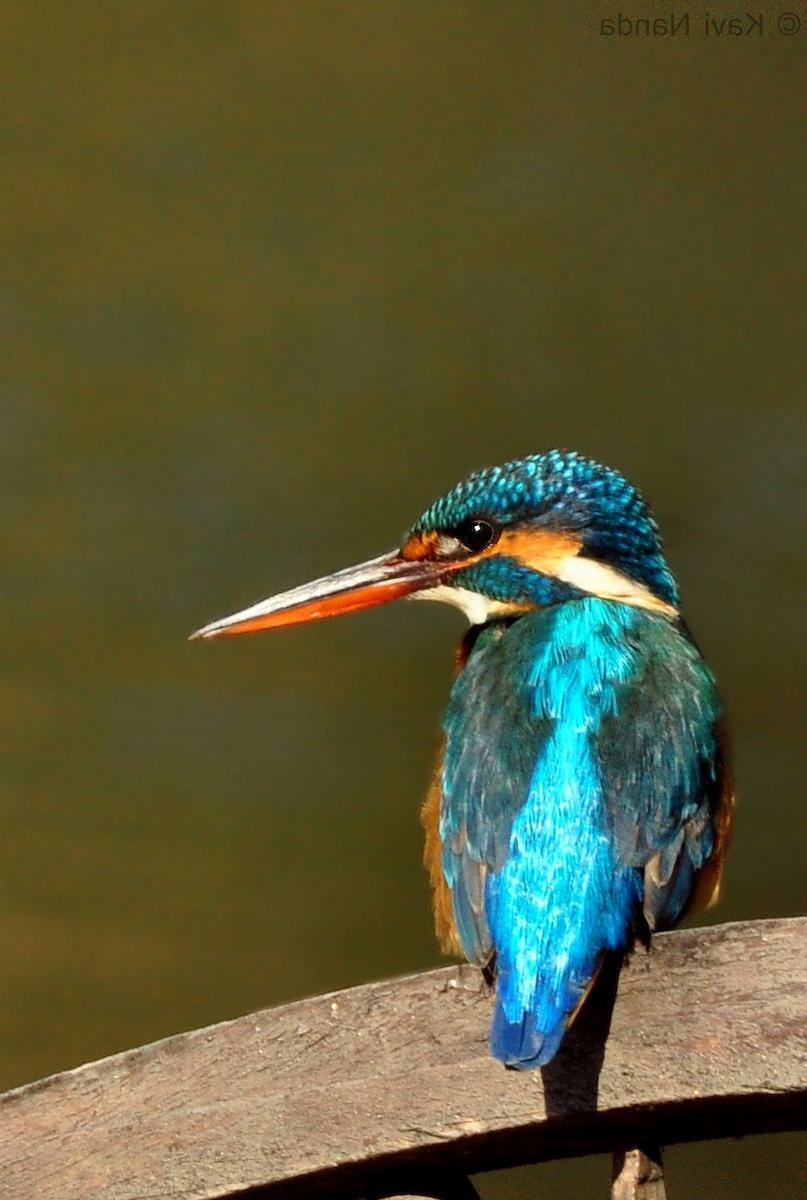kingfisher: (155, 426, 747, 1070)
